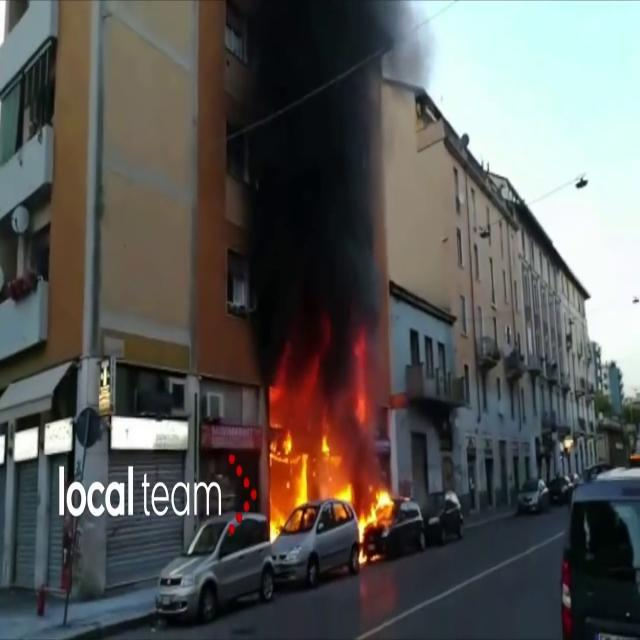Fire: (262, 385, 355, 537), (356, 476, 396, 558)
Smoke: (232, 1, 406, 378)
